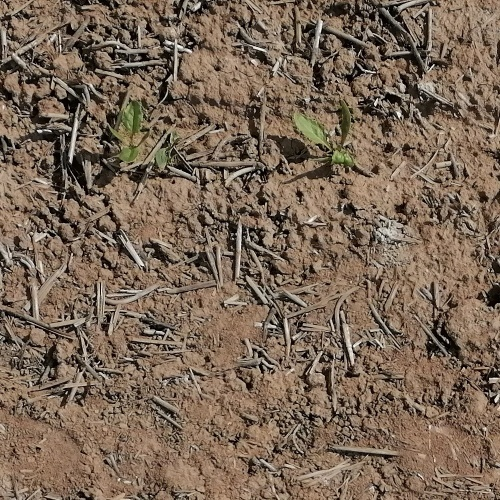beet: (295, 99, 355, 169), (107, 99, 145, 161)
